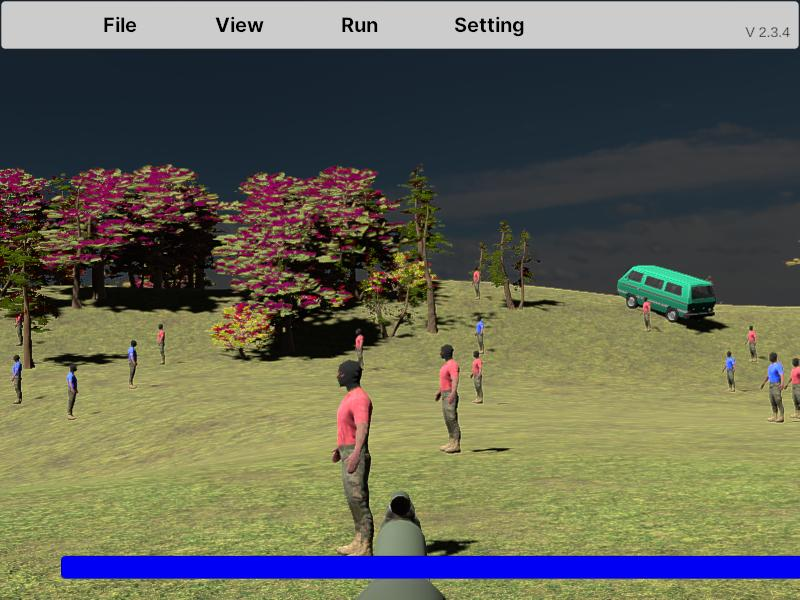Human: (332, 359, 374, 560), (436, 344, 460, 454), (761, 351, 785, 423), (784, 357, 800, 421), (470, 349, 484, 405), (67, 363, 78, 420), (11, 354, 22, 405)
car: (617, 265, 717, 323)
